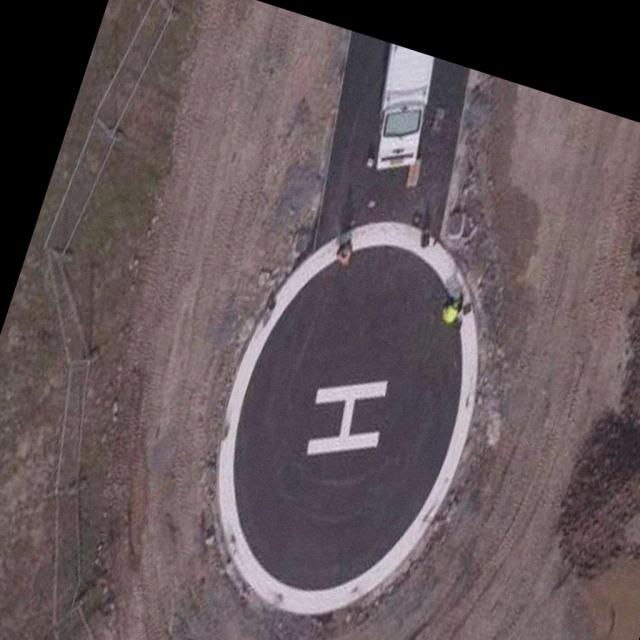helipad: (209, 215, 486, 622)
